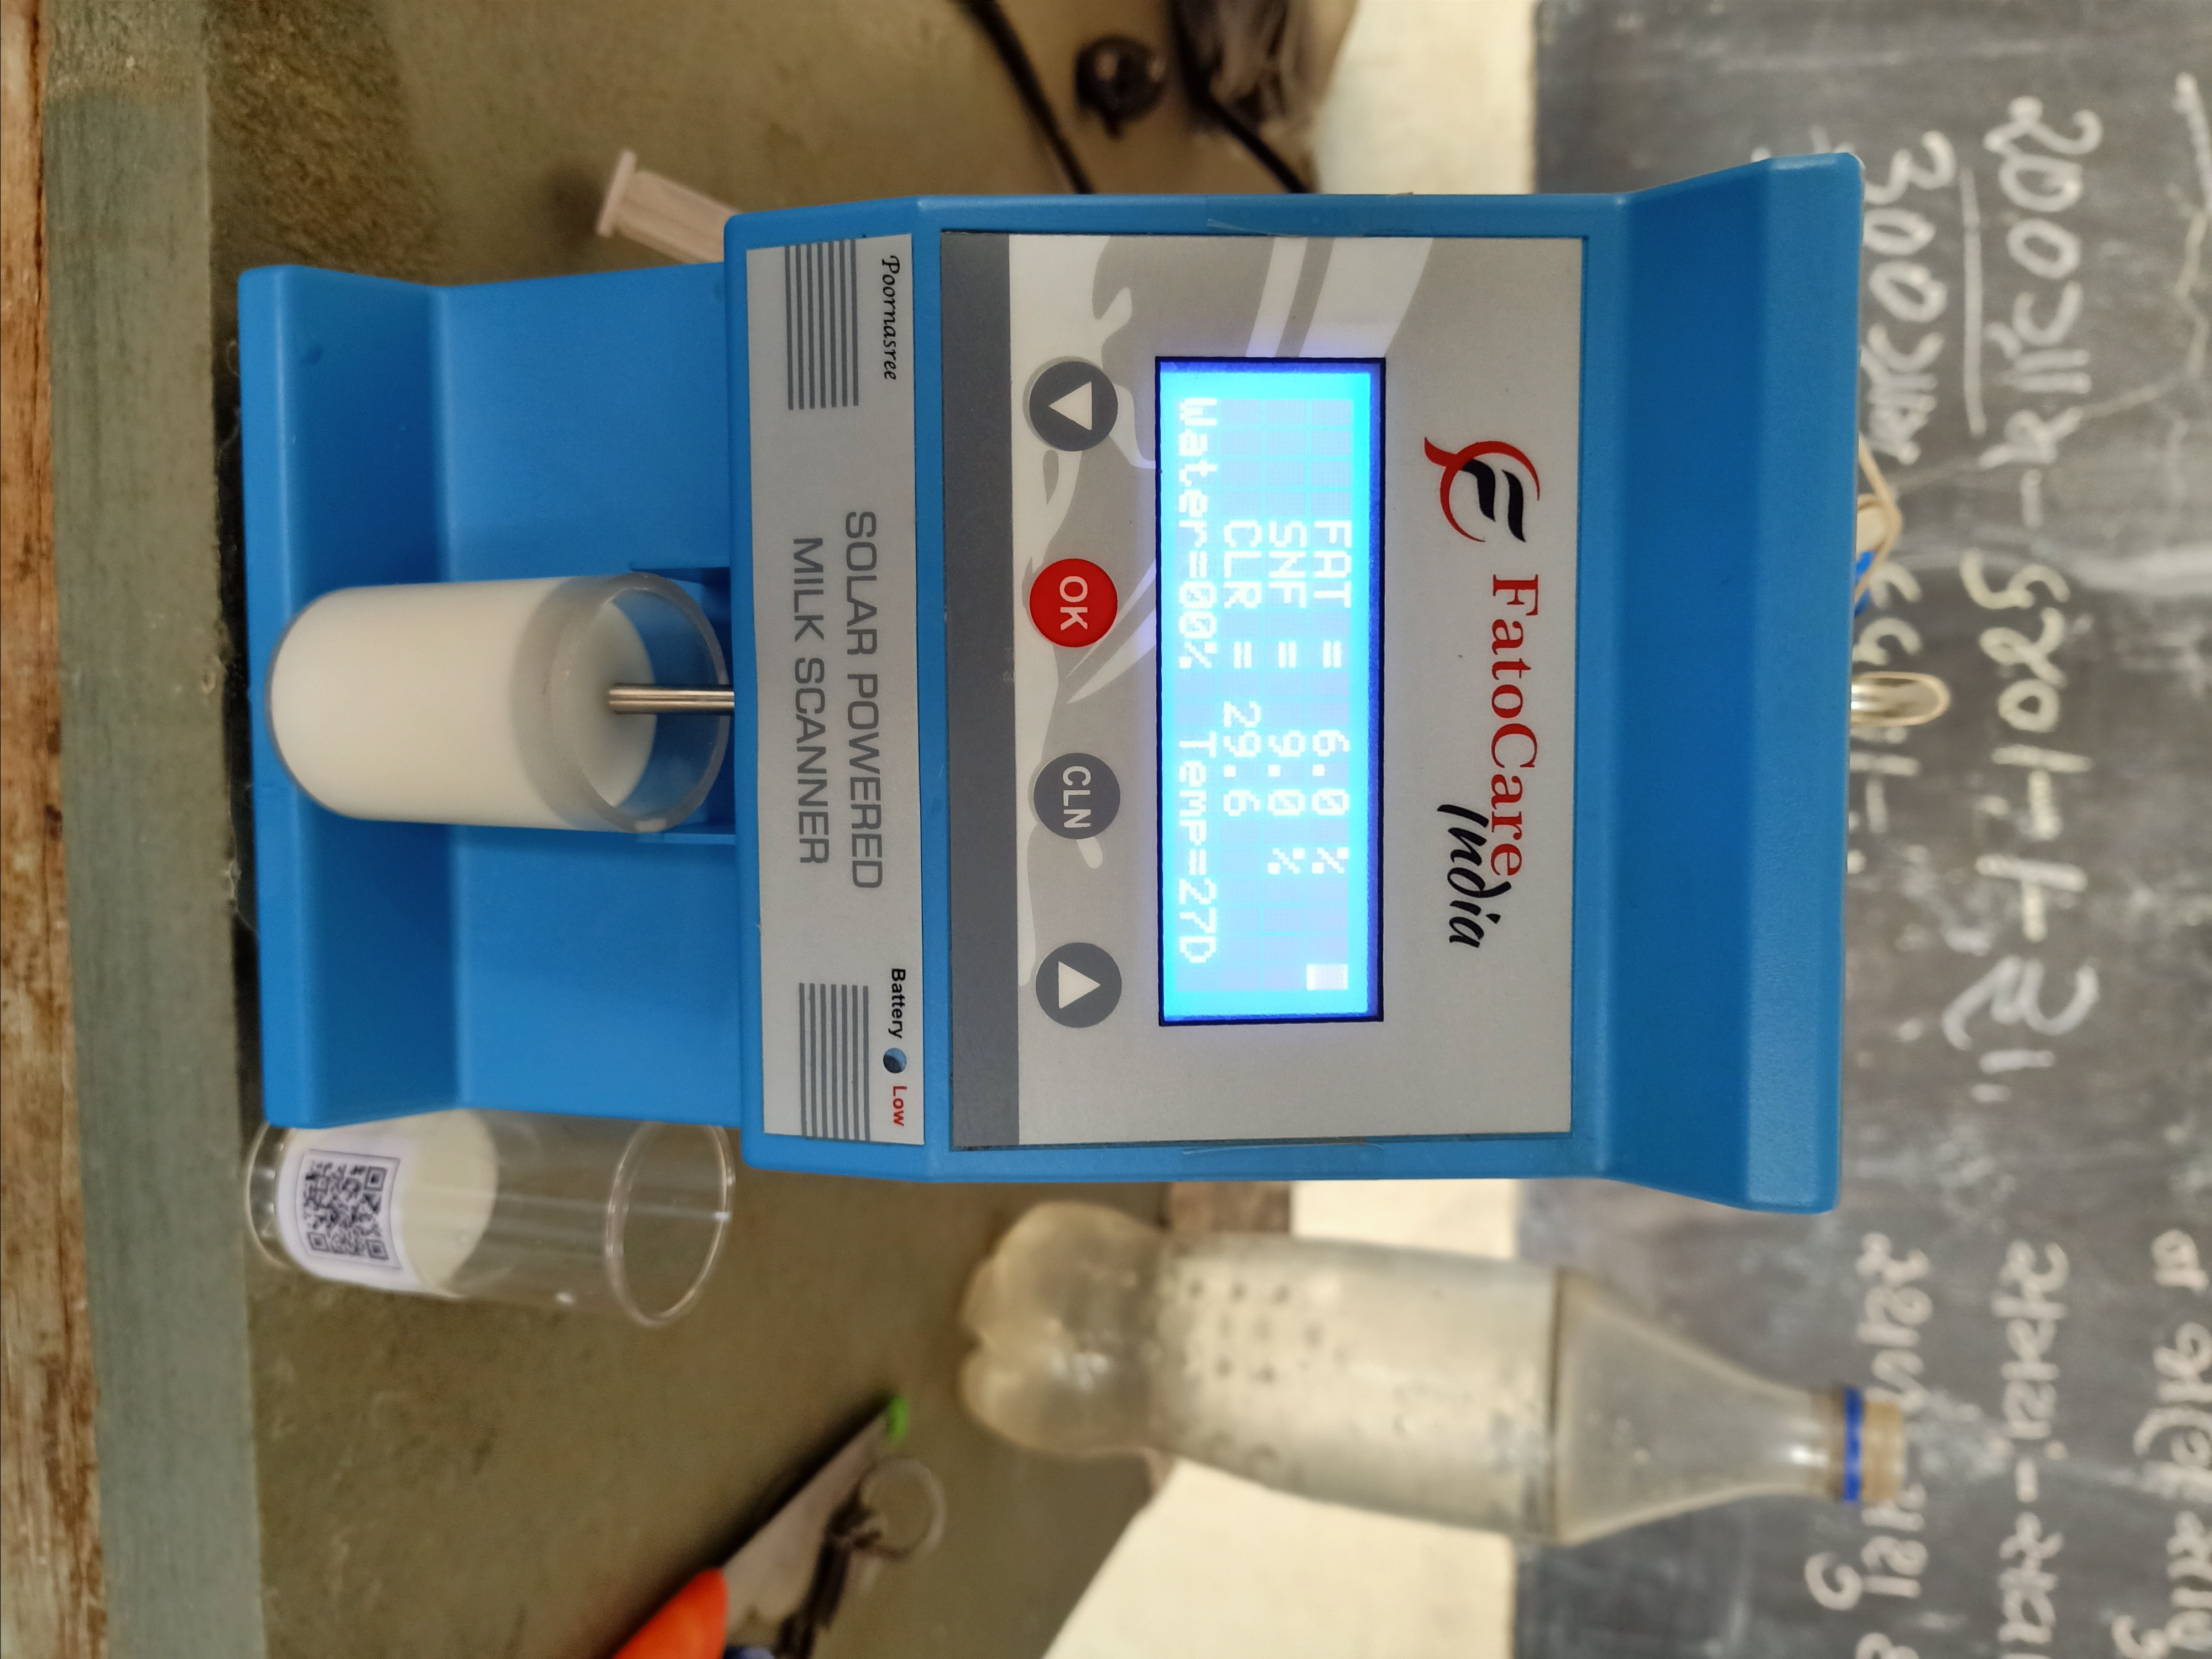lcd: (1136, 335, 1416, 1039)
qr: (282, 1143, 416, 1290)
